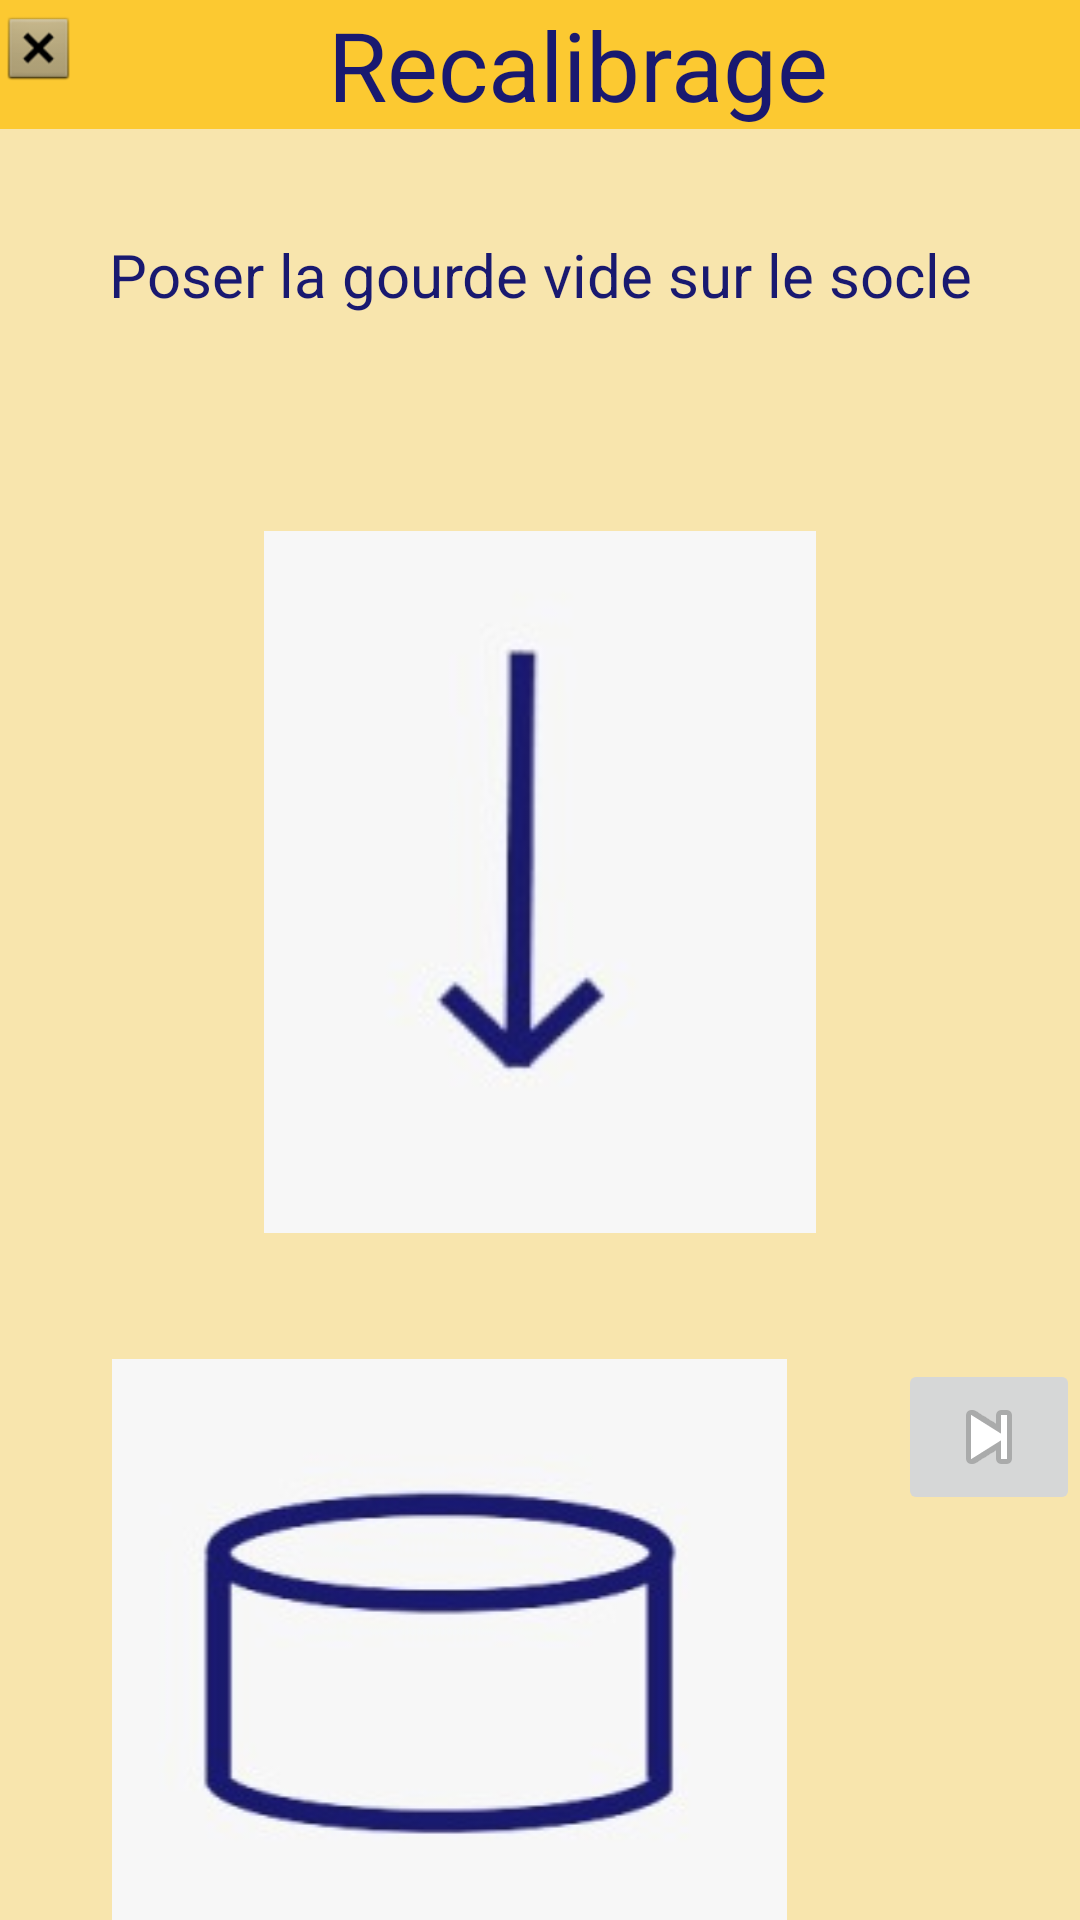

Icon bounding boxes for this 1080×1920 phone screenshot, format Rect(x1, y1, x2, y2):
vers page suivante: Rect(910, 1377, 1068, 1497)
